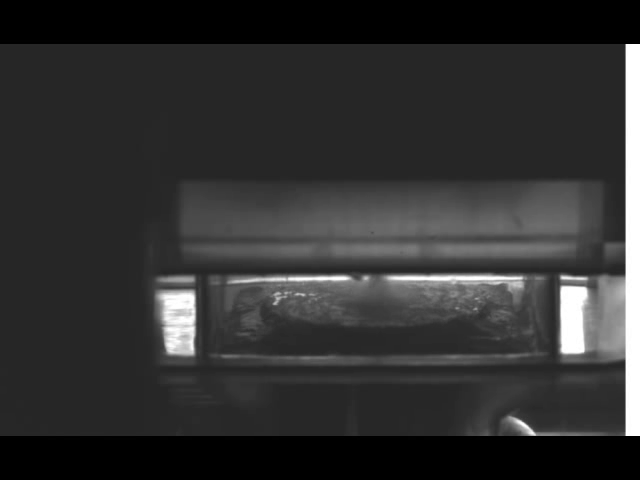Zona de teste: (264, 279, 496, 334)
